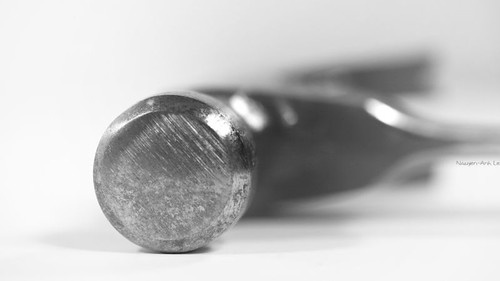hammer: (94, 45, 498, 256)
